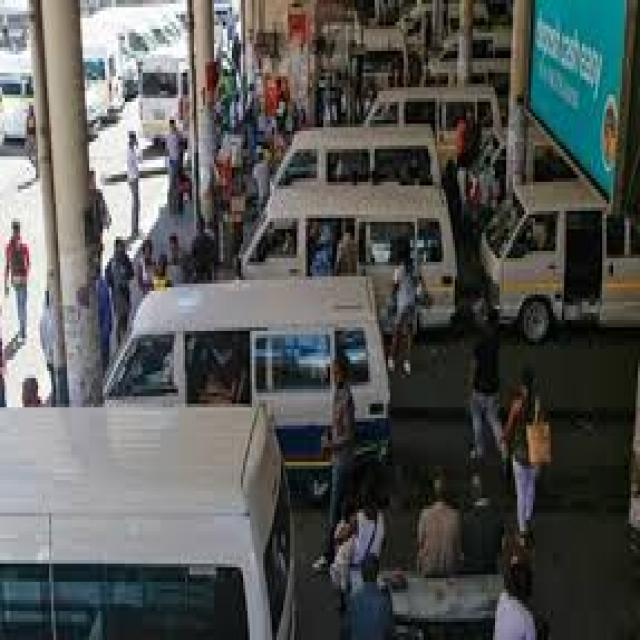MiniBus taxi: (479, 175, 640, 338)
